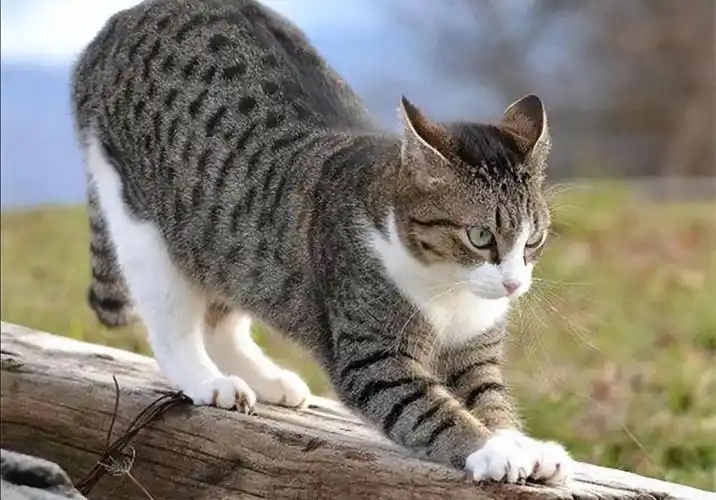狸花猫: (272, 95, 549, 476)
